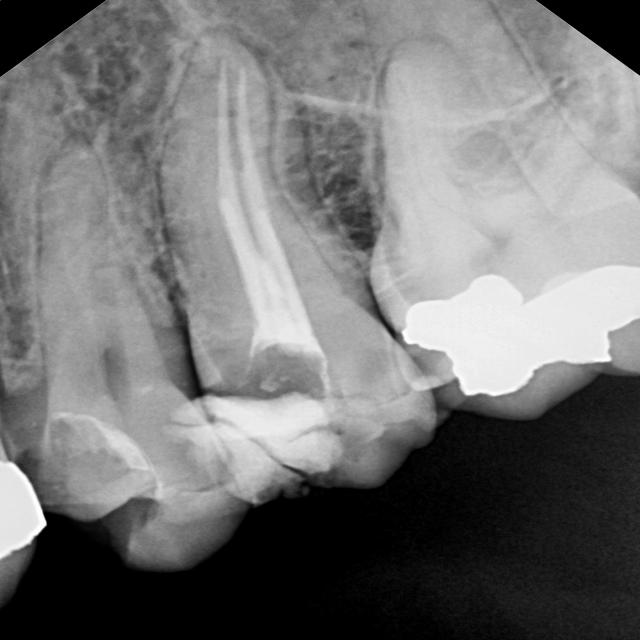Badly Decayed: (26, 363, 244, 597)
Restoration: (372, 245, 640, 418)
